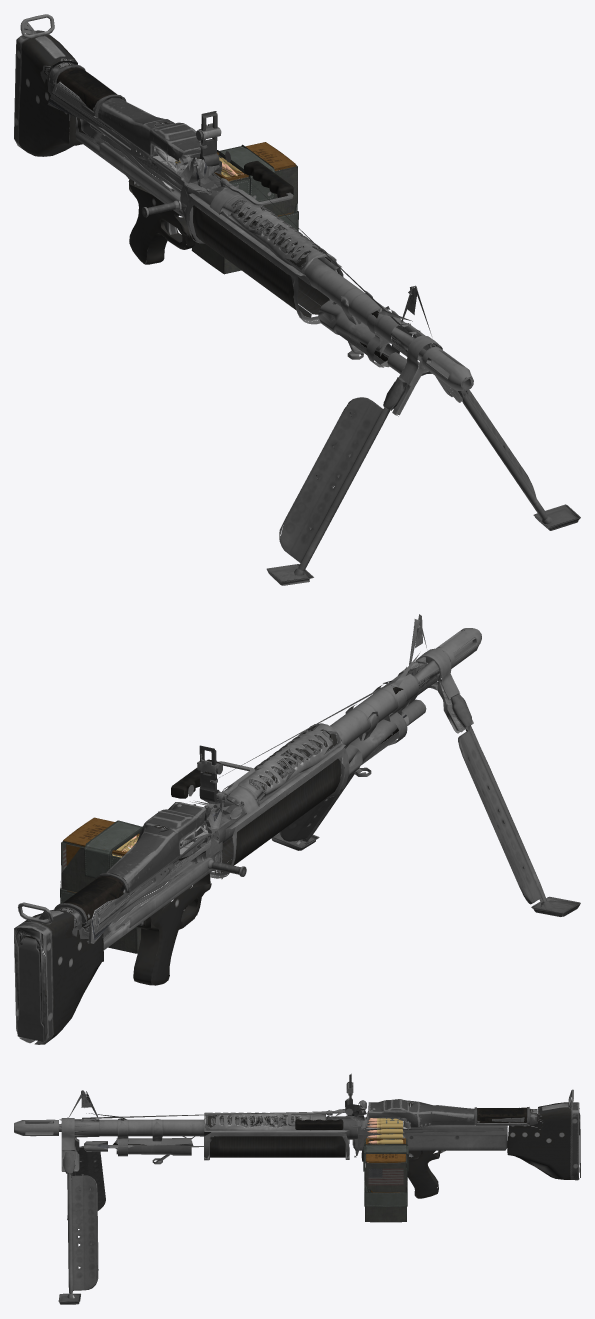
The model's file is m60_mounted.glb.
The picture shows the model from 3 angles, top to bottom: view 1: azimuth 30°, elevation 25°; view 2: azimuth 150°, elevation 25°; view 3: azimuth 270°, elevation 25°; orthographic projection. The views are drawn at different scales.
Visible parts, largest first — view 1: polySurface285_body_m_0, polySurface285_bits_m_0, polySurface239_body_m_0, polySurface261_lambert1_0, polySurface245_body_m_0, polySurface237_body_m_0, polySurface248_bits_m_0, polySurface284_bits_m_0; view 2: polySurface285_body_m_0, polySurface285_bits_m_0, polySurface239_body_m_0, polySurface261_lambert1_0, polySurface156_bits_m_0, polySurface245_body_m_0, polySurface237_body_m_0, polySurface284_bits_m_0, polySurface248_bits_m_0; view 3: polySurface285_body_m_0, polySurface285_bits_m_0, polySurface245_body_m_0, polySurface261_lambert1_0, polySurface239_body_m_0, polySurface261_bulletsandcasings_0, polySurface248_bits_m_0.
Part boxes in pixels (x1,y1,x2,y2): polySurface285_body_m_0: (14, 30, 343, 324); polySurface285_bits_m_0: (20, 14, 473, 416); polySurface239_body_m_0: (266, 377, 406, 585); polySurface261_lambert1_0: (191, 142, 298, 274); polySurface245_body_m_0: (458, 389, 580, 530); polySurface237_body_m_0: (99, 142, 181, 217); polySurface248_bits_m_0: (220, 161, 293, 205); polySurface284_bits_m_0: (196, 111, 221, 166); polySurface285_body_m_0: (14, 723, 349, 1044); polySurface285_bits_m_0: (18, 614, 481, 948); polySurface239_body_m_0: (450, 693, 580, 916); polySurface261_lambert1_0: (60, 817, 142, 953); polySurface156_bits_m_0: (17, 937, 44, 1041); polySurface245_body_m_0: (271, 712, 392, 850); polySurface237_body_m_0: (127, 857, 246, 927); polySurface284_bits_m_0: (197, 745, 222, 802); polySurface248_bits_m_0: (171, 759, 255, 798); polySurface285_body_m_0: (204, 1099, 579, 1198); polySurface285_bits_m_0: (14, 1089, 573, 1171); polySurface245_body_m_0: (58, 1152, 98, 1304); polySurface261_lambert1_0: (363, 1138, 408, 1222); polySurface239_body_m_0: (67, 1146, 105, 1220); polySurface261_bulletsandcasings_0: (367, 1118, 403, 1163); polySurface248_bits_m_0: (288, 1111, 343, 1129).
Size of the model in its own units: 0.5324 by 0.4922 by 1.37.
5 materials, 5 textured.
